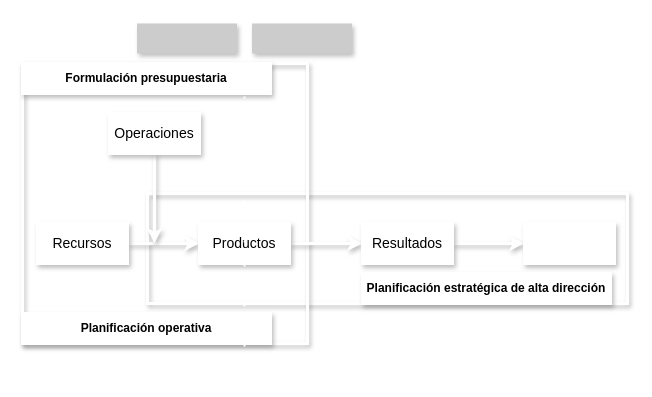
Image size: 652x397. Some labels were removed from this diagram. The shapes that lost their labels are listed below. From the top down, each one's centre as x and y in pixels, then its label:
At (187,39): "Sector Público".
At (303,39): "Sociedad".
At (570,245): "Impactos".
